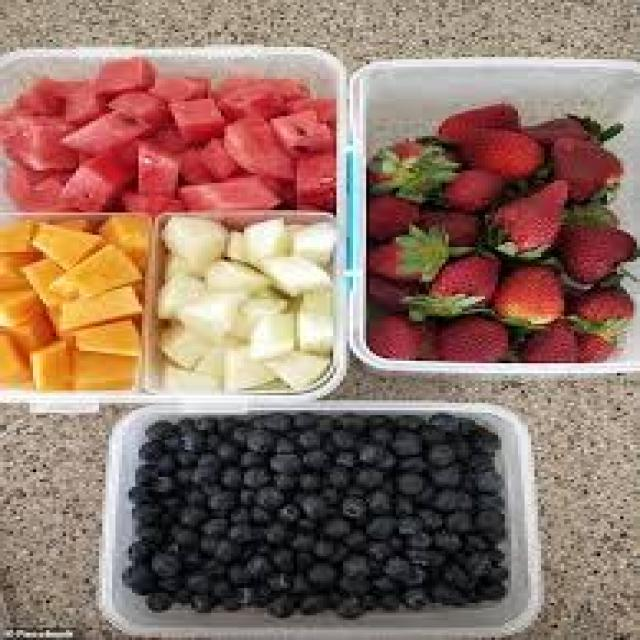organic waste: (482, 176, 568, 254), (548, 222, 636, 286), (43, 242, 142, 297), (0, 106, 82, 170), (455, 123, 548, 178), (363, 136, 452, 193), (488, 257, 561, 326), (548, 134, 617, 200), (561, 272, 630, 338), (59, 143, 132, 205), (422, 249, 495, 309), (56, 276, 139, 328), (224, 114, 287, 180), (155, 212, 224, 272), (3, 158, 82, 210), (419, 101, 518, 141), (521, 111, 624, 148), (393, 218, 452, 282), (426, 312, 504, 358), (175, 173, 287, 205), (244, 299, 300, 361), (60, 111, 146, 151), (27, 220, 102, 264), (369, 304, 429, 356), (264, 106, 330, 153), (155, 272, 214, 324), (439, 165, 508, 208), (261, 346, 330, 388), (250, 257, 326, 294), (92, 212, 148, 262), (69, 316, 139, 356), (366, 235, 429, 279), (66, 348, 135, 388), (218, 336, 270, 388), (92, 54, 152, 99), (412, 205, 478, 245), (402, 286, 482, 318), (290, 146, 334, 202), (214, 79, 280, 116), (205, 255, 267, 294), (23, 336, 69, 388), (518, 314, 571, 358), (294, 286, 330, 348), (10, 76, 79, 108), (366, 193, 416, 237), (158, 319, 208, 363), (175, 297, 231, 336), (106, 89, 165, 126), (168, 94, 218, 136), (195, 136, 244, 178), (63, 76, 112, 118), (7, 306, 52, 351), (366, 270, 419, 302), (0, 326, 30, 381), (241, 218, 280, 260), (168, 143, 214, 178), (254, 76, 310, 104), (211, 296, 248, 338), (145, 72, 201, 99), (290, 220, 330, 257), (20, 257, 59, 294), (116, 190, 188, 210), (280, 92, 334, 118), (195, 339, 231, 378), (241, 168, 287, 198), (439, 558, 478, 590), (241, 286, 284, 314), (333, 551, 370, 583), (0, 249, 36, 281), (571, 329, 610, 358), (560, 202, 614, 222), (165, 252, 204, 279), (425, 578, 462, 606), (287, 492, 330, 516), (429, 486, 478, 506), (429, 529, 465, 556), (0, 287, 40, 311), (122, 561, 152, 593), (0, 220, 33, 249), (429, 460, 462, 489), (350, 462, 386, 487), (224, 228, 251, 260), (380, 551, 412, 578), (208, 74, 251, 94), (264, 588, 294, 615), (304, 561, 336, 586), (465, 465, 498, 489), (175, 430, 211, 452), (271, 469, 300, 496), (122, 536, 155, 558), (211, 438, 244, 460), (152, 126, 181, 151), (340, 526, 369, 551), (234, 581, 264, 605), (241, 467, 277, 487), (363, 512, 392, 536), (138, 415, 172, 435), (148, 551, 175, 576), (205, 489, 234, 512), (333, 593, 363, 615), (198, 514, 231, 534), (386, 432, 416, 454), (175, 502, 208, 522), (264, 546, 290, 571), (129, 499, 165, 517), (264, 452, 300, 470), (46, 218, 92, 232), (340, 494, 363, 522), (363, 484, 386, 512), (446, 509, 478, 529), (294, 590, 326, 610), (390, 470, 422, 490), (228, 536, 257, 558), (251, 482, 280, 504), (333, 571, 370, 588), (274, 499, 297, 526), (254, 571, 290, 588), (320, 425, 356, 442), (330, 413, 366, 430), (284, 222, 300, 260), (224, 522, 254, 542), (386, 489, 412, 512), (399, 584, 426, 606), (171, 546, 198, 568), (399, 529, 426, 551), (188, 464, 221, 482), (168, 464, 195, 486), (472, 578, 501, 598), (241, 428, 270, 448), (225, 420, 248, 445), (449, 413, 475, 435), (416, 506, 442, 528), (393, 509, 419, 531), (132, 519, 165, 536), (284, 571, 316, 588), (478, 563, 508, 581), (320, 516, 350, 534), (290, 428, 317, 448), (356, 442, 386, 460), (326, 444, 359, 460), (426, 442, 452, 462), (257, 524, 287, 541), (392, 415, 426, 430), (132, 462, 162, 479), (135, 440, 165, 457), (145, 588, 168, 610), (208, 534, 231, 556), (165, 524, 198, 539), (247, 506, 274, 524), (211, 415, 238, 433), (446, 435, 468, 457), (468, 428, 492, 448), (356, 586, 376, 610), (148, 474, 172, 494), (472, 506, 501, 522), (152, 570, 181, 586), (188, 590, 211, 610), (185, 570, 208, 590), (225, 564, 248, 584), (409, 479, 429, 502), (297, 469, 317, 492), (214, 593, 241, 610), (462, 450, 488, 467), (195, 556, 221, 573), (261, 413, 287, 430), (330, 536, 350, 558), (323, 462, 343, 484), (416, 425, 445, 440), (294, 548, 314, 568), (310, 536, 330, 556), (382, 531, 402, 551), (372, 450, 392, 470), (406, 561, 429, 578), (208, 578, 234, 593), (152, 452, 178, 467), (390, 455, 422, 467), (171, 450, 198, 464), (228, 504, 250, 521), (178, 486, 201, 502), (366, 422, 389, 438), (380, 590, 400, 608), (300, 447, 320, 465), (125, 482, 148, 497), (248, 556, 268, 573), (360, 539, 380, 556), (238, 487, 258, 504), (158, 430, 178, 447), (218, 464, 234, 484), (310, 412, 330, 428), (188, 412, 208, 428), (155, 534, 181, 546), (238, 452, 260, 465), (462, 544, 485, 556), (472, 492, 495, 504), (320, 591, 343, 603), (287, 413, 310, 425), (191, 450, 218, 460), (426, 413, 448, 425), (290, 531, 310, 544), (158, 512, 182, 522), (168, 586, 185, 600), (274, 432, 287, 450), (297, 516, 317, 526), (244, 415, 264, 425), (462, 561, 478, 573), (482, 529, 498, 541), (366, 415, 386, 423), (172, 420, 188, 430), (485, 551, 498, 563), (462, 529, 475, 541)
